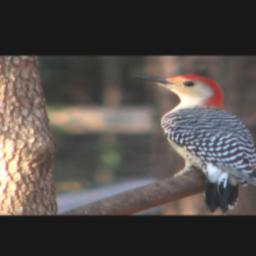Woodpecker: (128, 73, 256, 211)
